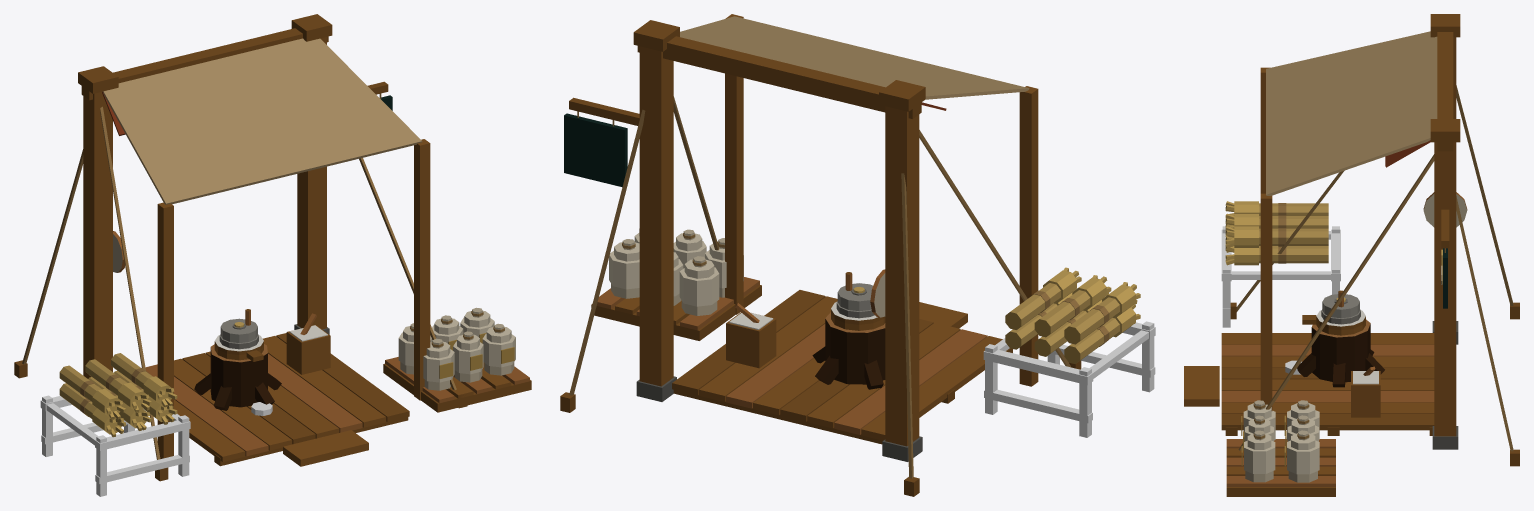
The model's file is mill-lvl1.fbx.
The picture shows the model from 3 angles, left to right: view 1: azimuth 30°, elevation 25°; view 2: azimuth 150°, elevation 25°; view 3: azimuth 270°, elevation 25°; orthographic projection. The views are drawn at different scales.
Parts seen in each view (by area): view 1: Mill1_Canopy, Mill1_Platform, Input_Container_Rack, Mill1_QuernBase, Output_Container_Pallet, Mill1_Dressing, Output_Sack_03, Output_Sack_01, Output_Sack_02, Input_Sheaf_04, Input_Sheaf_05, Input_Sheaf_06 (+7 smaller); view 2: Mill1_Canopy, Mill1_Platform, Mill1_Dressing, Input_Container_Rack, Mill1_QuernBase, Output_Container_Pallet, Output_Sack_04, Input_Sheaf_04, Input_Sheaf_05, Input_Sheaf_06, Output_Sack_06, Input_Sheaf_01 (+5 smaller); view 3: Mill1_Canopy, Mill1_Platform, Mill1_QuernBase, Output_Container_Pallet, Mill1_Dressing, Input_Container_Rack, Input_Sheaf_06, Input_Sheaf_03, Output_Sack_06, Output_Sack_03, Input_Sheaf_05, Input_Sheaf_04 (+5 smaller).
Part boxes in pixels (x1,y1,x2,y2): Mill1_Canopy: (14,14,467,481); Mill1_Platform: (145,333,409,466); Input_Container_Rack: (40,395,190,496); Mill1_QuernBase: (194,334,281,410); Output_Container_Pallet: (383,357,531,412); Mill1_Dressing: (113,81,392,374); Output_Sack_03: (482,323,515,375); Output_Sack_01: (423,338,454,390); Output_Sack_02: (453,331,483,382); Input_Sheaf_04: (59,365,125,419); Input_Sheaf_05: (85,359,151,412); Input_Sheaf_06: (111,353,177,407); Mill1_Canopy: (560,14,1081,496); Mill1_Platform: (672,290,1013,444); Mill1_Dressing: (564,97,885,368); Input_Container_Rack: (983,321,1155,437); Mill1_QuernBase: (812,301,885,389); Output_Container_Pallet: (591,277,761,340); Output_Sack_04: (679,256,719,315); Input_Sheaf_04: (1064,282,1140,344); Input_Sheaf_05: (1034,275,1111,337); Input_Sheaf_06: (1005,267,1081,329); Output_Sack_06: (609,239,639,298); Input_Sheaf_01: (1064,304,1140,363); Mill1_Canopy: (1230,14,1519,466); Mill1_Platform: (1184,333,1434,435); Mill1_QuernBase: (1297,309,1384,387); Output_Container_Pallet: (1226,439,1335,496); Mill1_Dressing: (1351,192,1467,417); Input_Container_Rack: (1221,226,1340,327); Input_Sheaf_06: (1225,226,1328,248); Input_Sheaf_03: (1225,246,1328,265); Output_Sack_06: (1284,430,1319,482); Output_Sack_03: (1241,430,1275,482); Input_Sheaf_05: (1225,213,1328,235); Input_Sheaf_04: (1225,201,1328,219).
Bounding box in the file's own units: 508 × 354 × 338.
